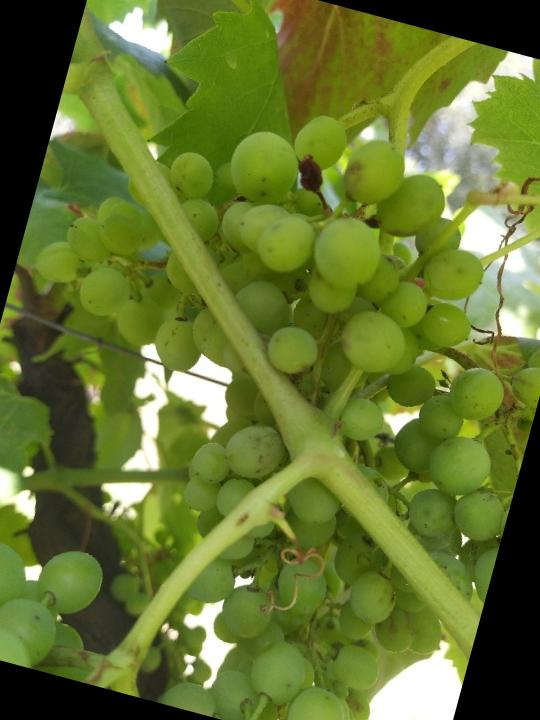grape: (0, 46, 540, 720)
